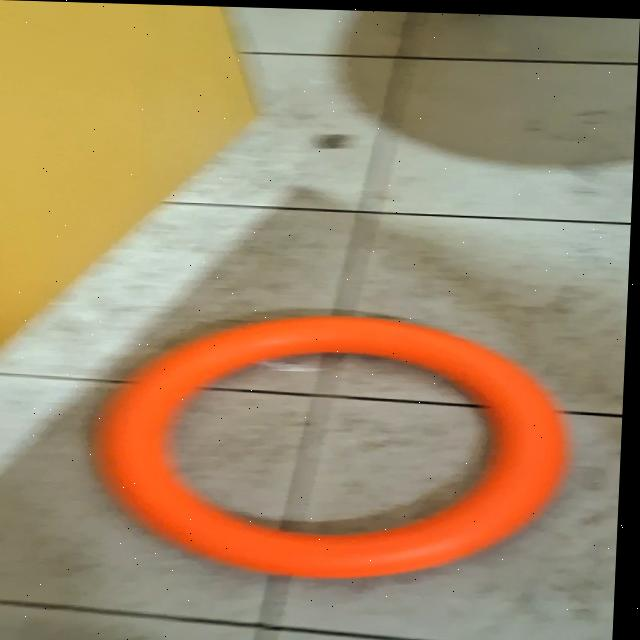note: (91, 306, 577, 582)
